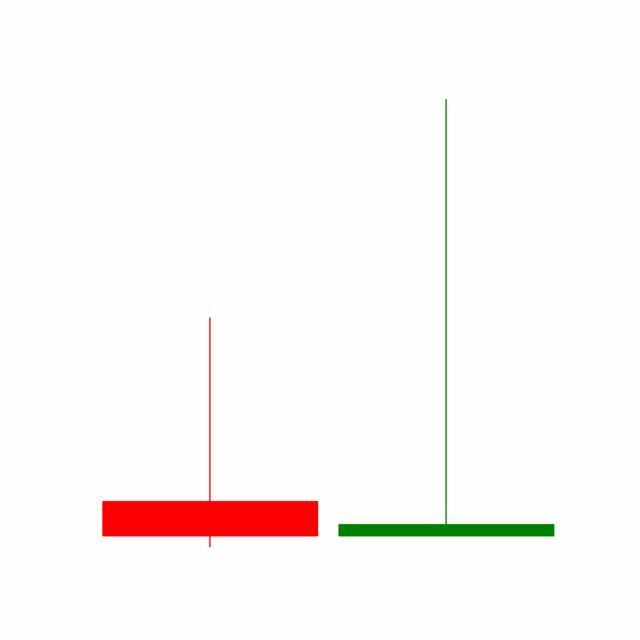Gravestone Doji: (328, 95, 566, 542)
